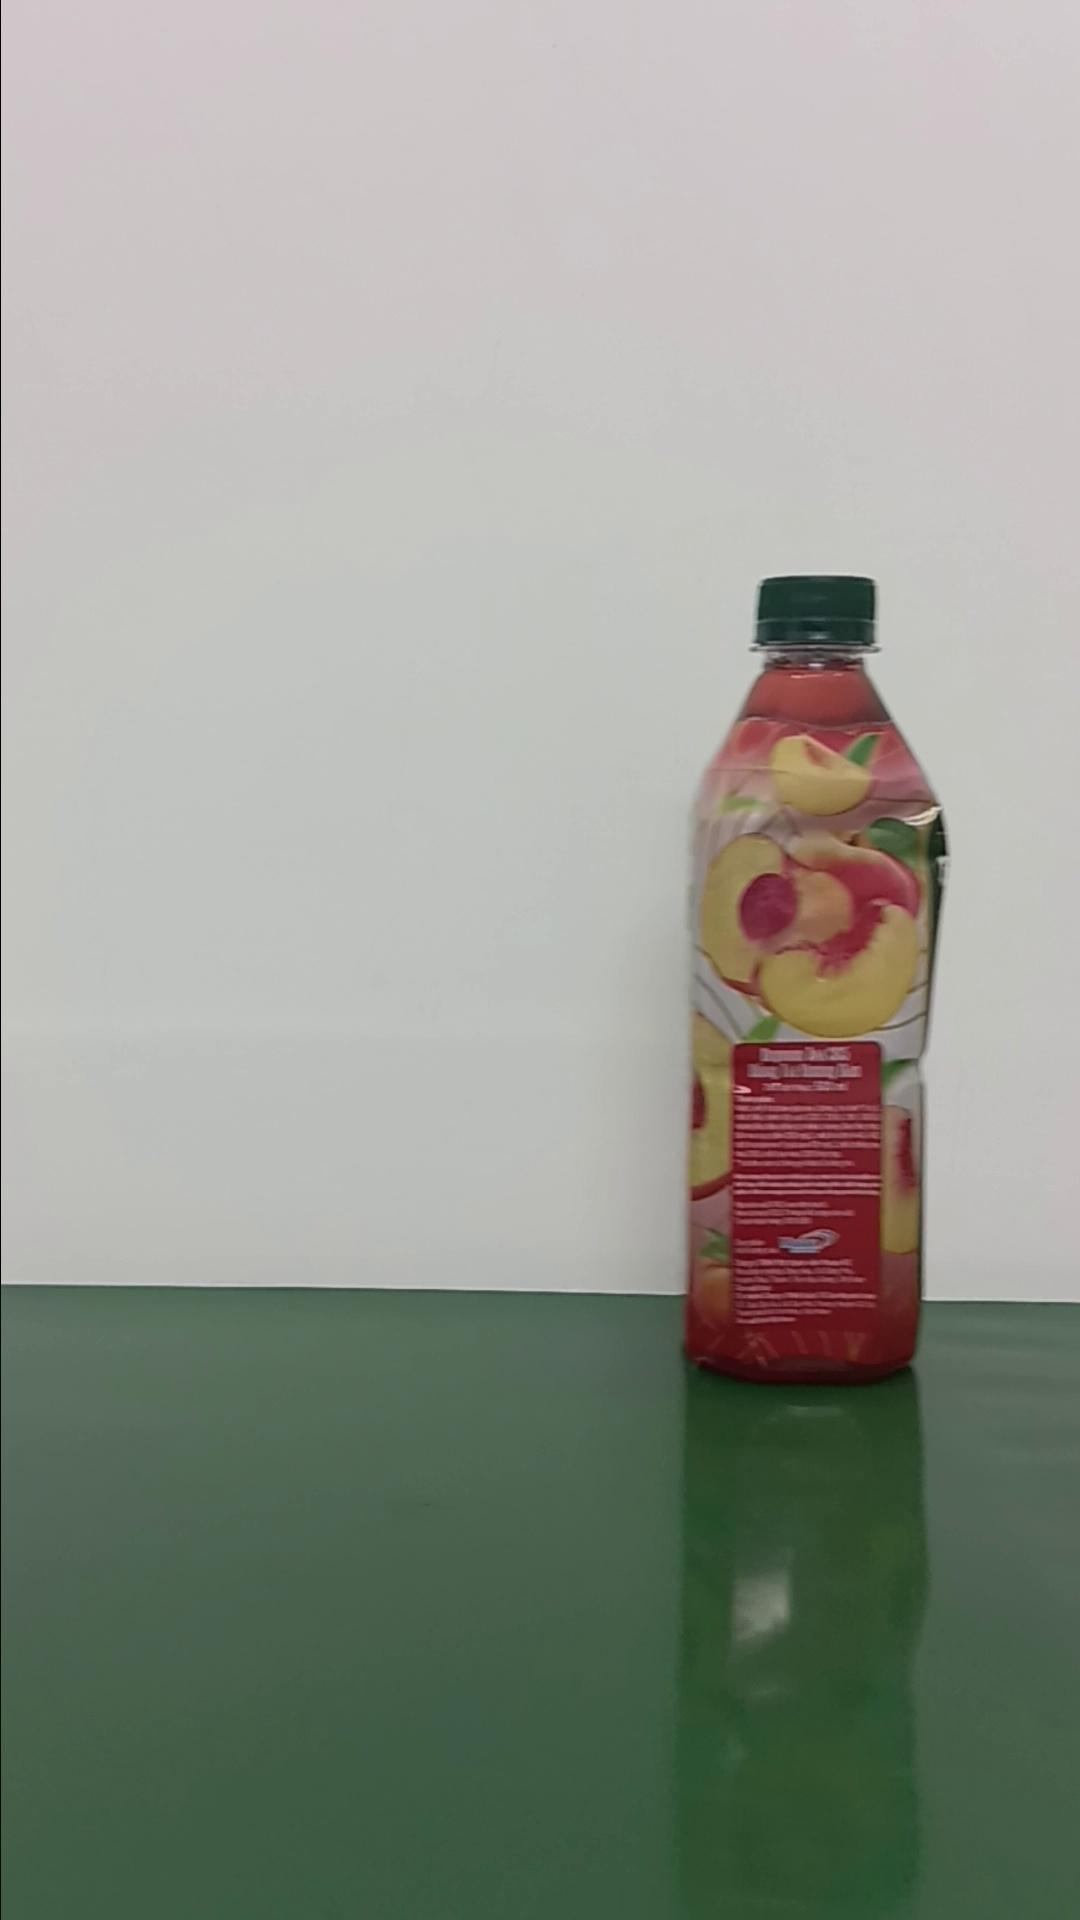loi meo sp: (681, 571, 949, 1384)
